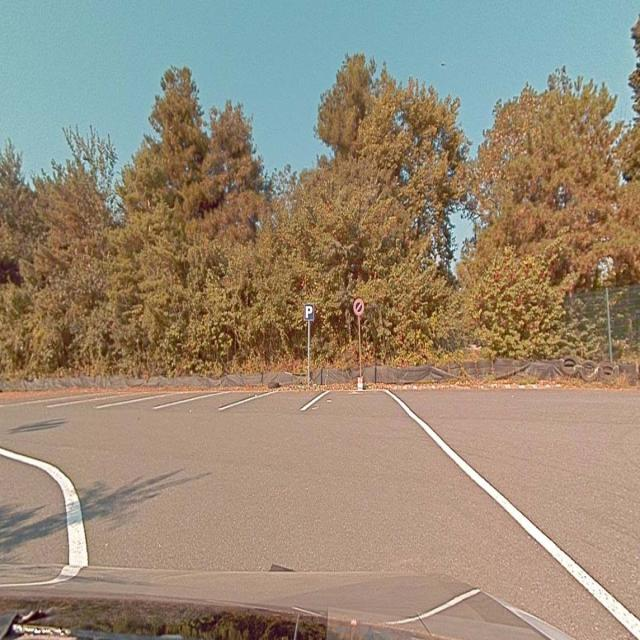park: (304, 303, 314, 320)
parkyasak: (354, 298, 364, 314)
